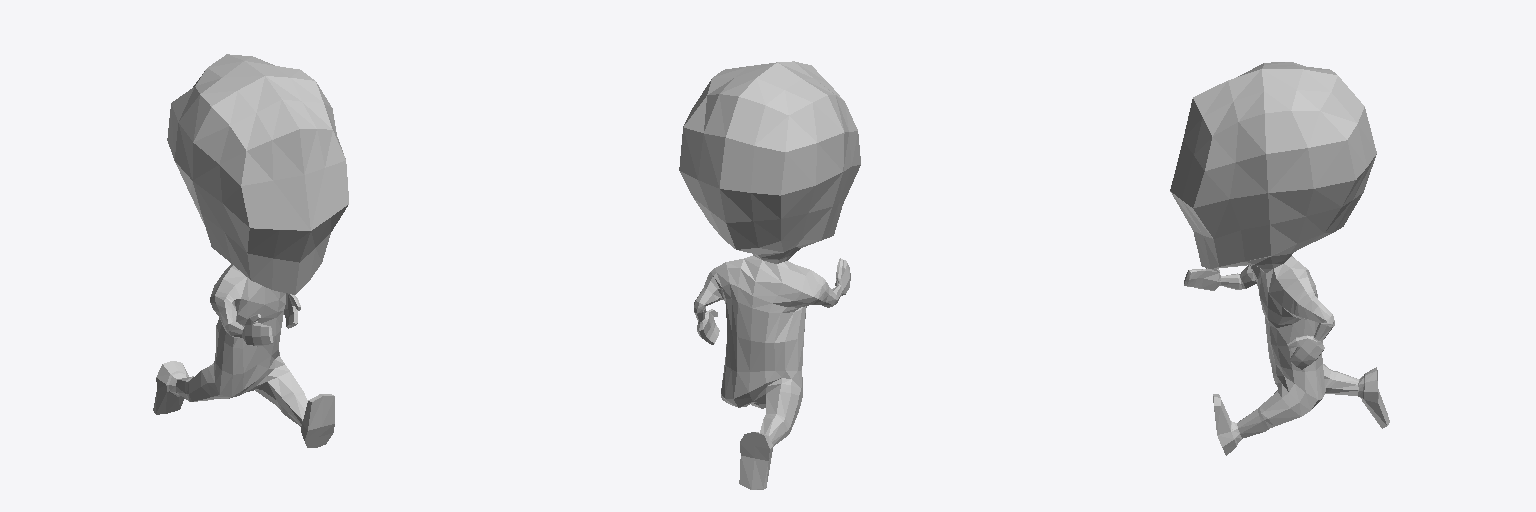
Rendered from char_000015.obj.
The picture shows the model from 3 angles: view 1: azimuth 30°, elevation 25°; view 2: azimuth 150°, elevation 25°; view 3: azimuth 270°, elevation 25°; orthographic projection.
Parts seen in each view (by area): view 1: lp_guy_mesh_Cube; view 2: lp_guy_mesh_Cube; view 3: lp_guy_mesh_Cube.
Part boxes in pixels (bbox=[...]): lp_guy_mesh_Cube: bbox=[153, 54, 348, 447]; lp_guy_mesh_Cube: bbox=[679, 61, 860, 489]; lp_guy_mesh_Cube: bbox=[1170, 62, 1389, 455].
Bounding box in the file's own units: 0.7344 × 1.88 × 1.